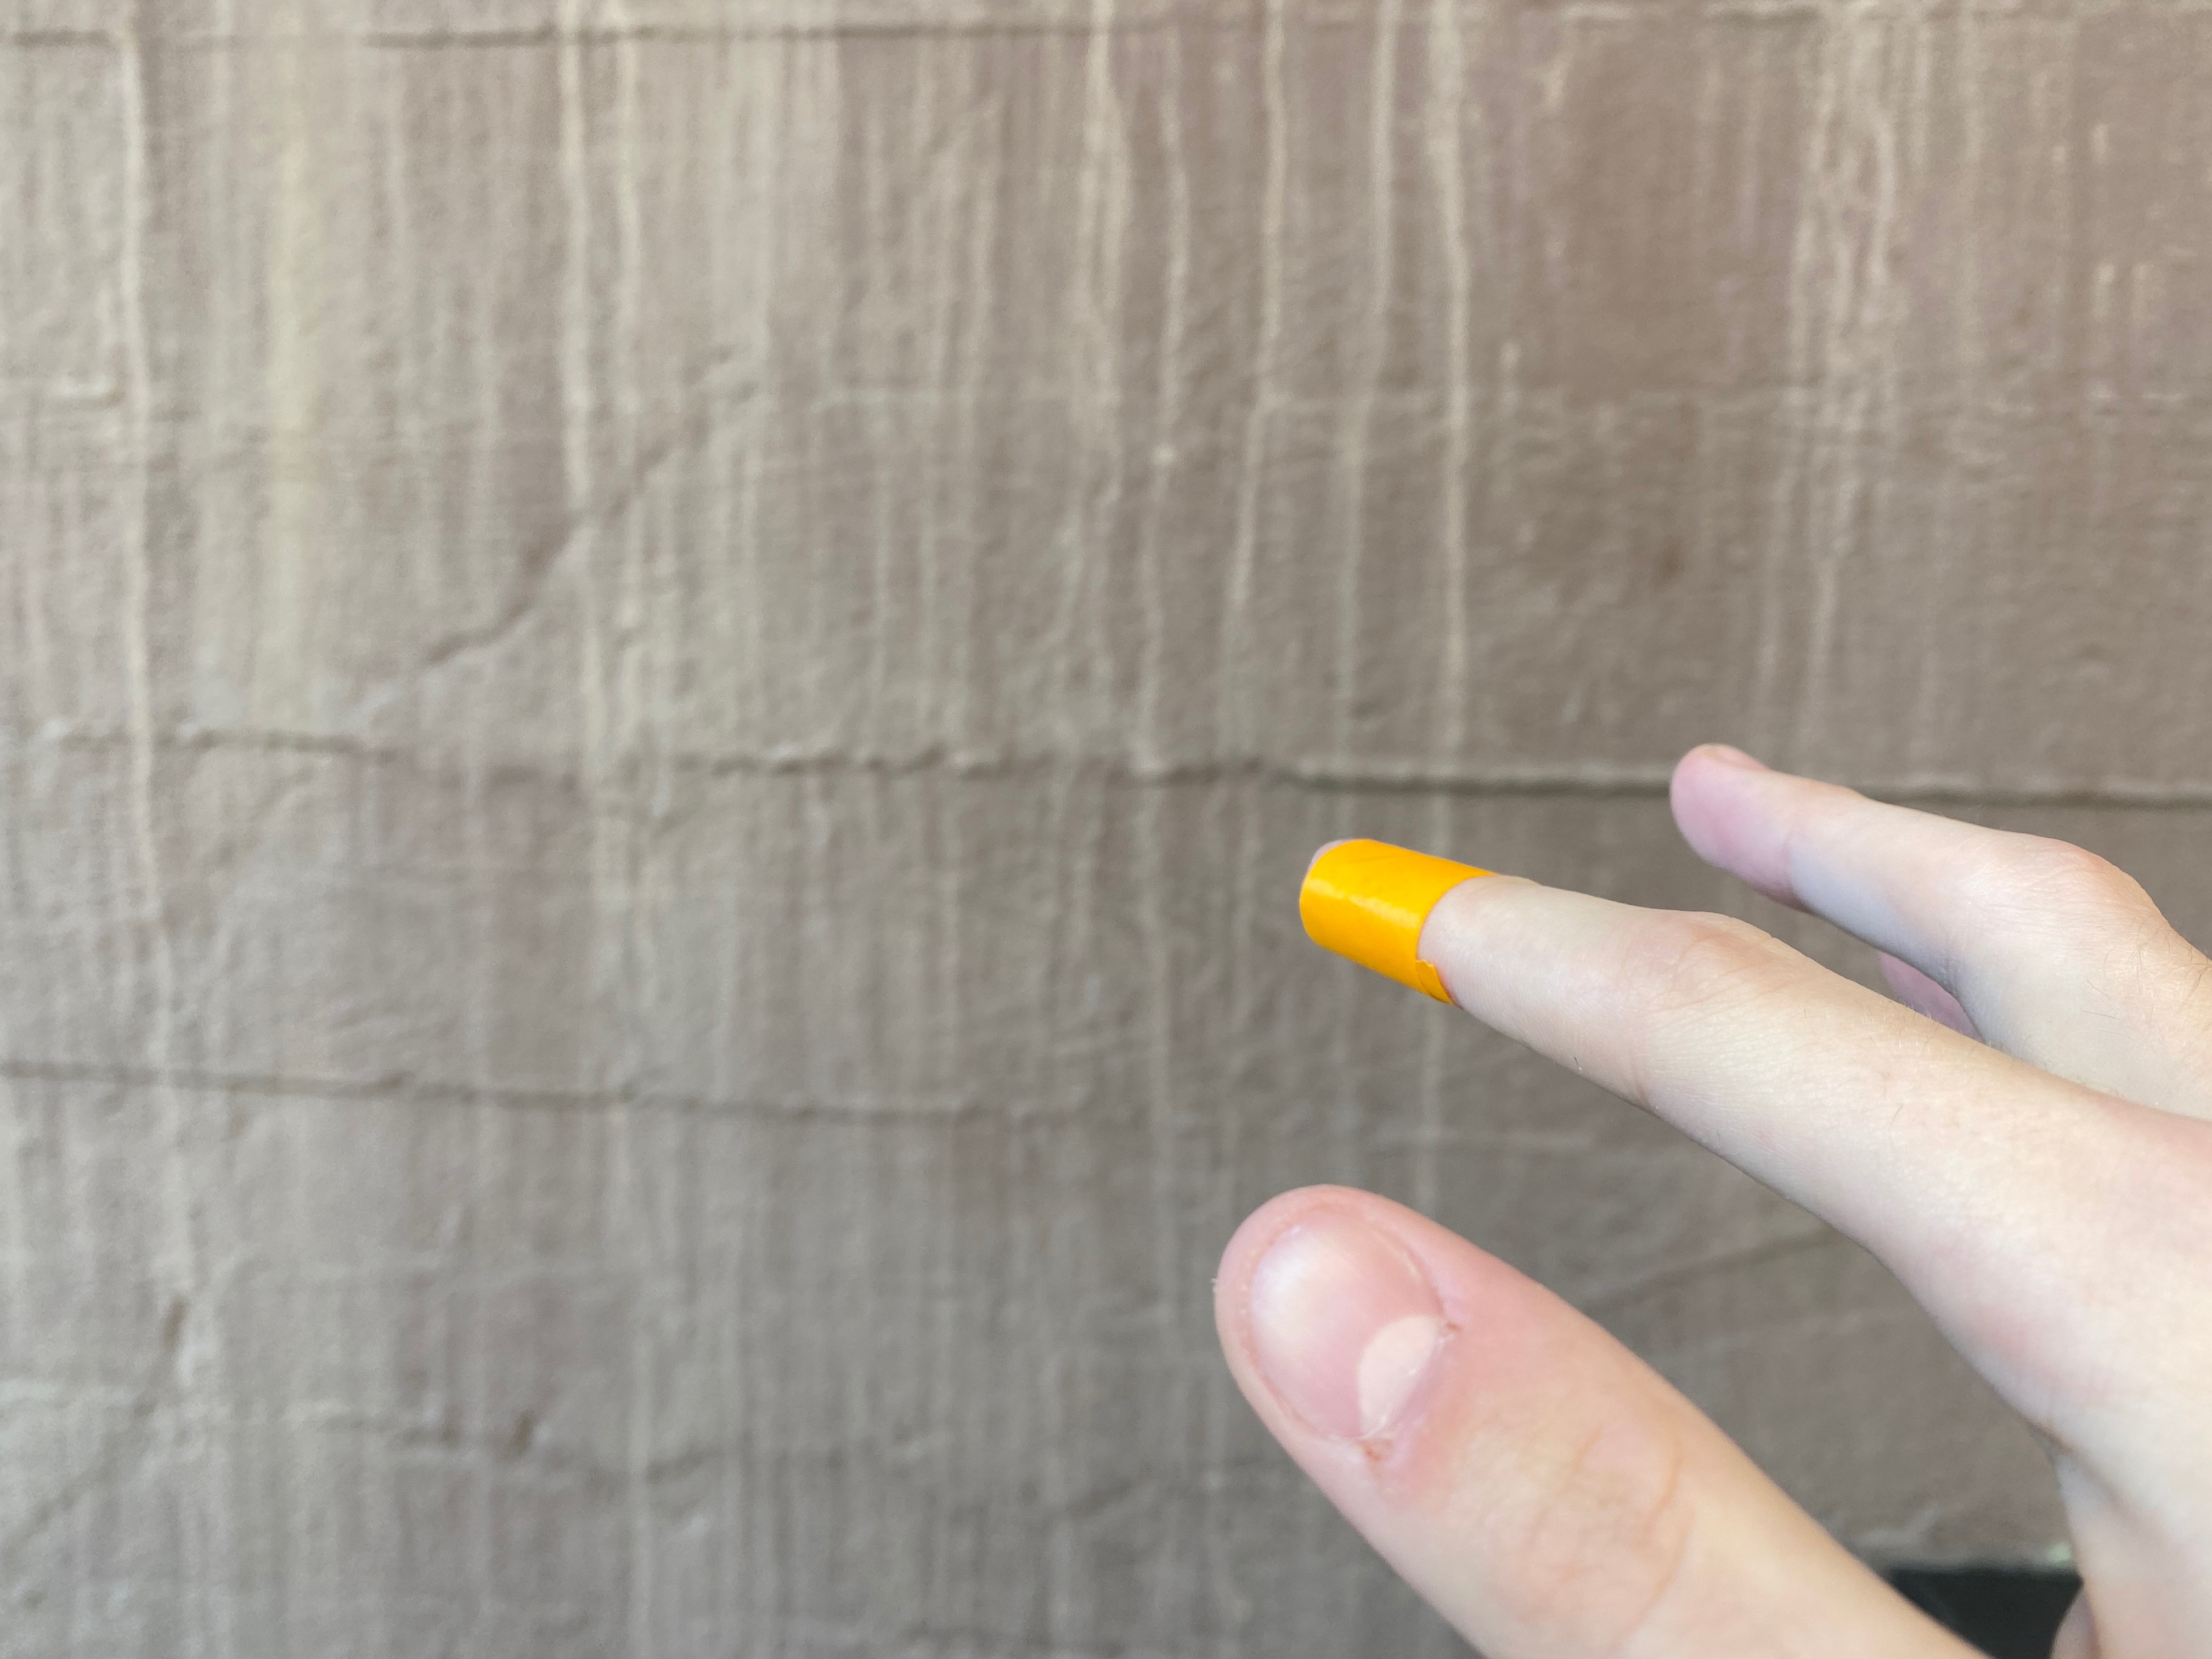fingertip: (1275, 830, 1446, 1002)
